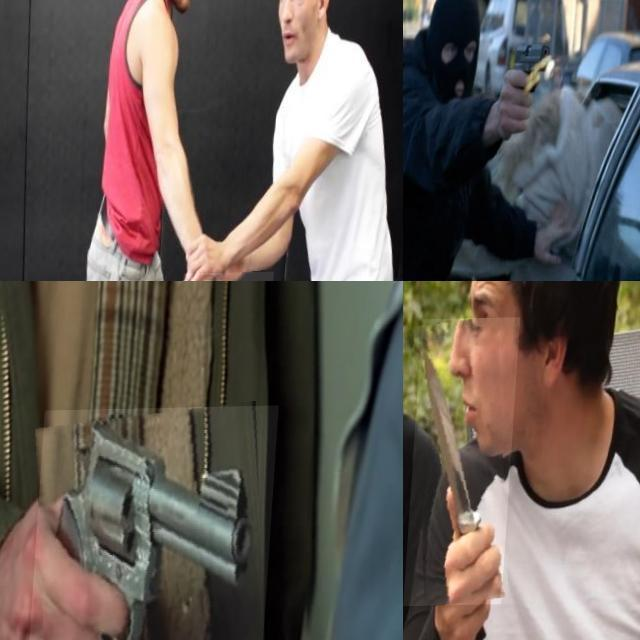-: (410, 320, 522, 608)
gun-knife-thesis - v11 Yolov5 augmented: (31, 407, 281, 640), (502, 32, 558, 132), (589, 0, 626, 34), (403, 0, 425, 33), (403, 65, 416, 102)
